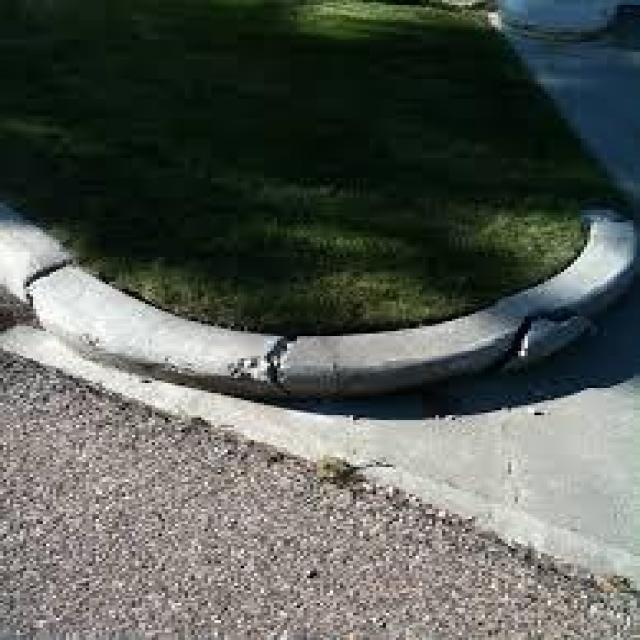bump: (371, 210, 639, 410), (15, 229, 224, 388)
